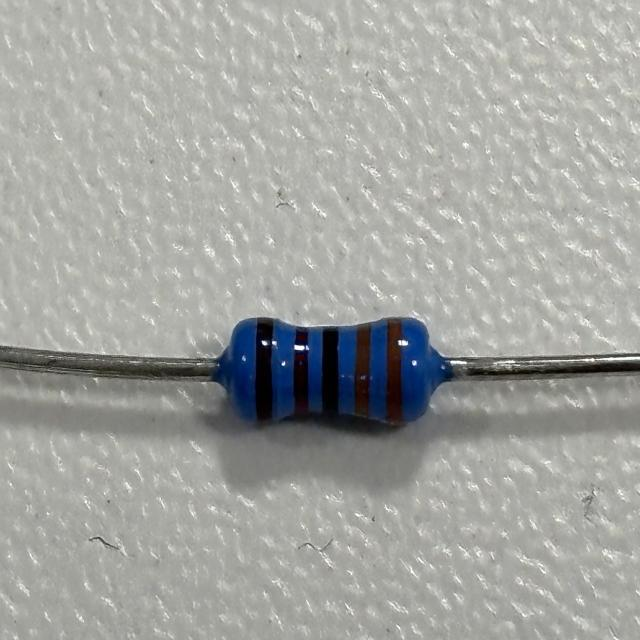resistor: (234, 313, 427, 429)
